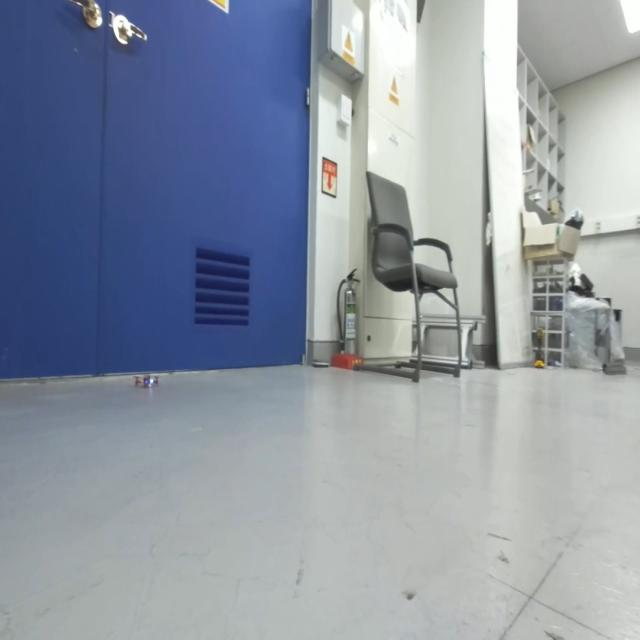crazyflie: (132, 372, 161, 394)
